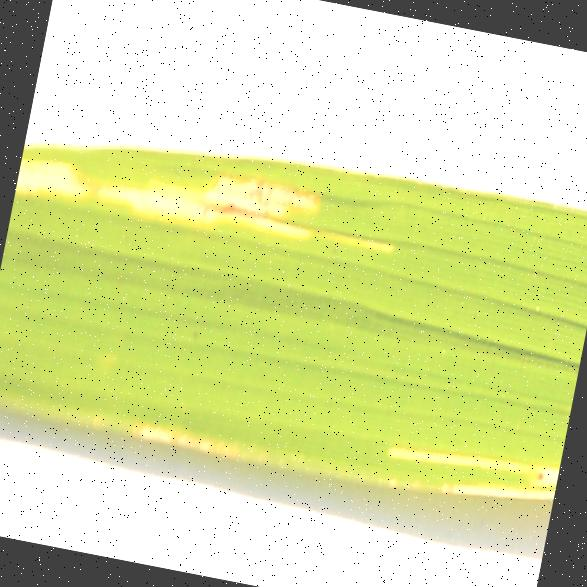Bacteria_Leaf_Blight: (10, 102, 439, 300), (354, 398, 565, 587)
